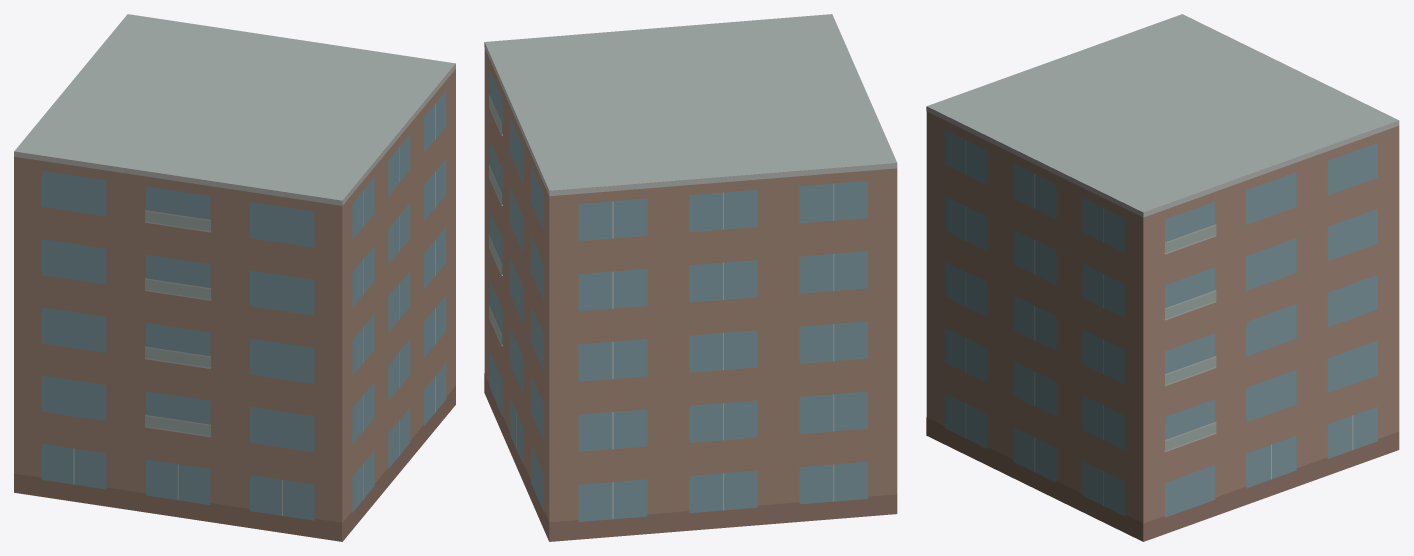
Rendered from survey-upis-32833089.glb.
The picture shows the model from 3 angles, left to right: view 1: azimuth 30°, elevation 25°; view 2: azimuth 150°, elevation 25°; view 3: azimuth 270°, elevation 25°; orthographic projection. The views are drawn at different scales.
Visible parts, largest first — view 1: survey-upis-32833089.tmp; view 2: survey-upis-32833089.tmp; view 3: survey-upis-32833089.tmp.
Part boxes in pixels (<box>): survey-upis-32833089.tmp: <box>14,14,455,541</box>; survey-upis-32833089.tmp: <box>484,14,897,541</box>; survey-upis-32833089.tmp: <box>926,14,1399,541</box>.
Bounding box in the file's own units: 20.5 × 15.85 × 20.63.
